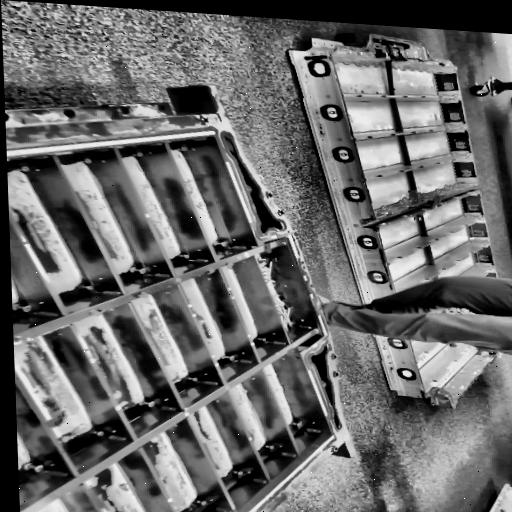b_casing: (5, 112, 347, 512), (328, 33, 512, 407)
